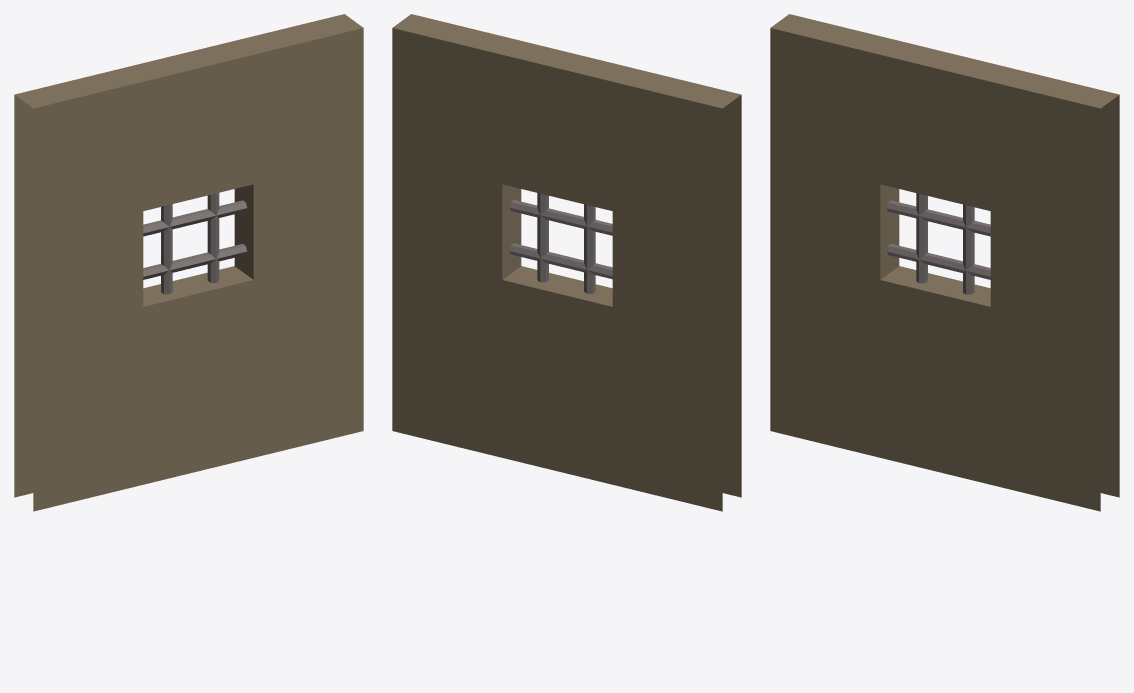
Rendered from SM_Wall_Window_200.fbx.
3 views of the same model, side by side, from view 1: azimuth 30°, elevation 25°; view 2: azimuth 150°, elevation 25°; view 3: azimuth 330°, elevation 25° (orthographic).
Visible parts, largest first — view 1: SM_Wall_Window_200; view 2: SM_Wall_Window_200; view 3: SM_Wall_Window_200.
Boxes of the visible parts, left/top/right/bottom form: SM_Wall_Window_200: left=14, top=14, right=363, bottom=511; SM_Wall_Window_200: left=392, top=14, right=741, bottom=511; SM_Wall_Window_200: left=770, top=14, right=1119, bottom=511.
Size of the model in its own units: 200 by 330 by 20.
4 materials, 4 textured.
